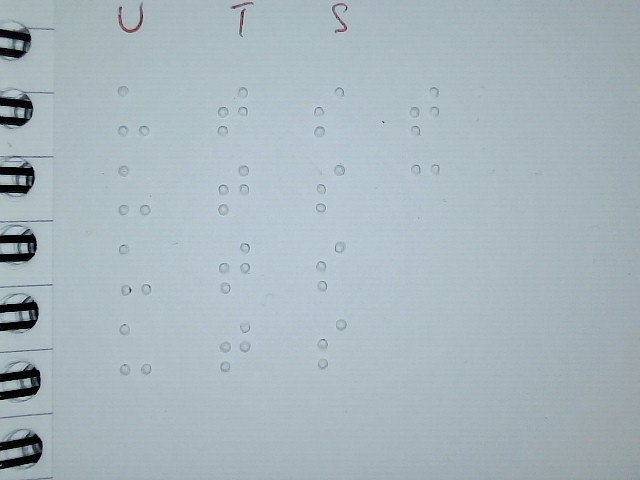S: (312, 84, 346, 138), (314, 161, 348, 215), (314, 239, 348, 293), (315, 316, 349, 370)
T: (216, 84, 250, 138), (217, 163, 251, 217), (217, 240, 251, 294), (218, 319, 252, 373)
U: (116, 84, 150, 138), (118, 163, 152, 217), (118, 242, 152, 296), (118, 322, 152, 376)
